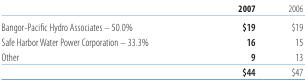table: (0, 1, 302, 77)
table column: (0, 1, 192, 77), (192, 1, 271, 77), (271, 1, 302, 77)
table column header: (0, 1, 302, 16)
table row: (0, 16, 302, 33), (0, 1, 302, 16), (0, 33, 302, 48), (0, 48, 302, 63), (0, 63, 302, 77)
